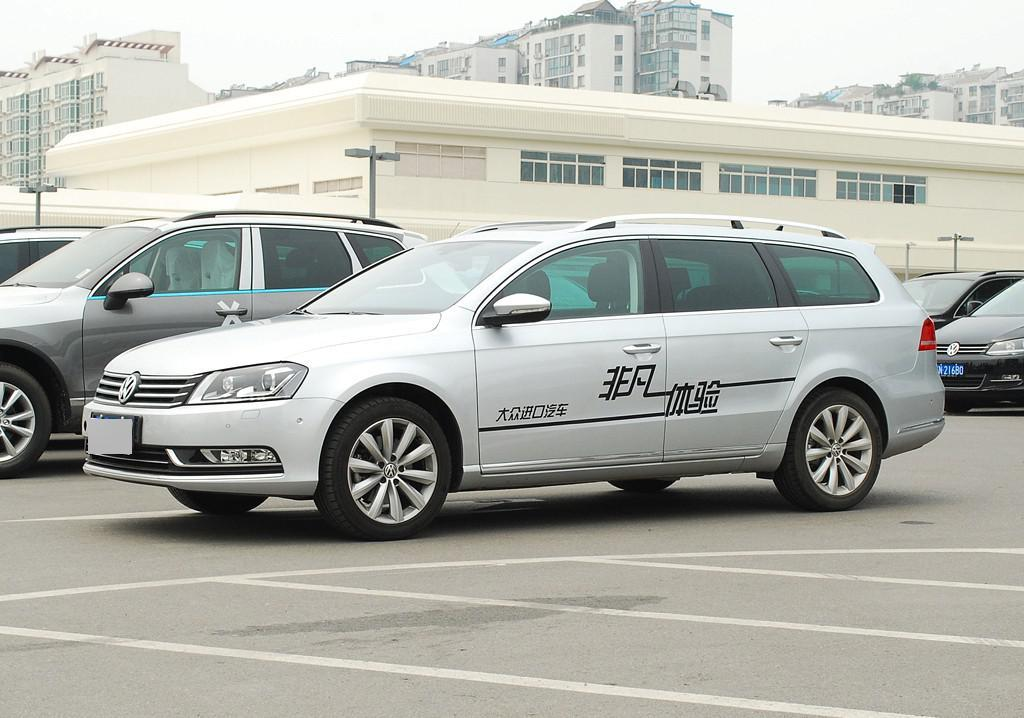Wagon: (81, 212, 947, 539)
